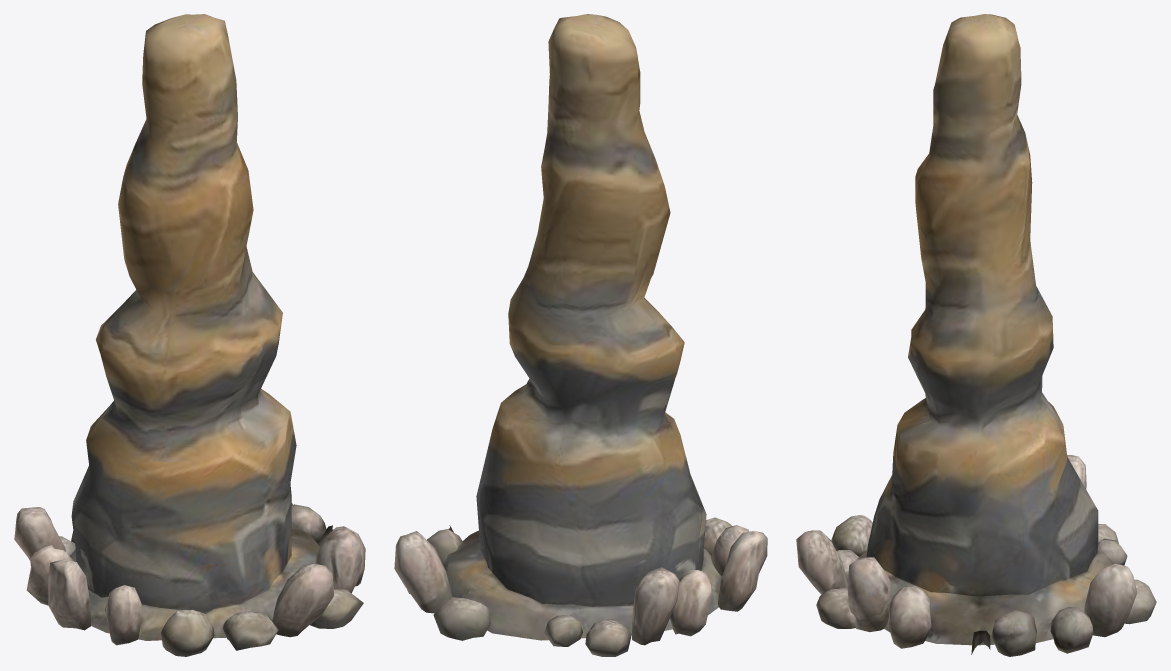
The model's file is mt_estalagmite.glb.
The picture shows the model from 3 angles, left to right: view 1: azimuth 30°, elevation 25°; view 2: azimuth 150°, elevation 25°; view 3: azimuth 270°, elevation 25°; orthographic projection.
Parts seen in each view (by area): view 1: Mesh_0.994; view 2: Mesh_0.994; view 3: Mesh_0.994.
Boxes of the visible parts, <box> form: Mesh_0.994: <box>14,14,365,656</box>; Mesh_0.994: <box>394,14,767,656</box>; Mesh_0.994: <box>796,14,1156,656</box>.
Size of the model in its own units: 0.1719 by 0.3135 by 0.1809.
Materials: 1 (1 with a texture image).
